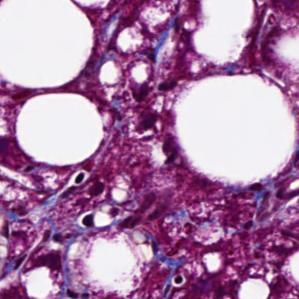inflammation: (76, 209, 97, 231), (69, 168, 90, 188), (170, 271, 187, 288)
